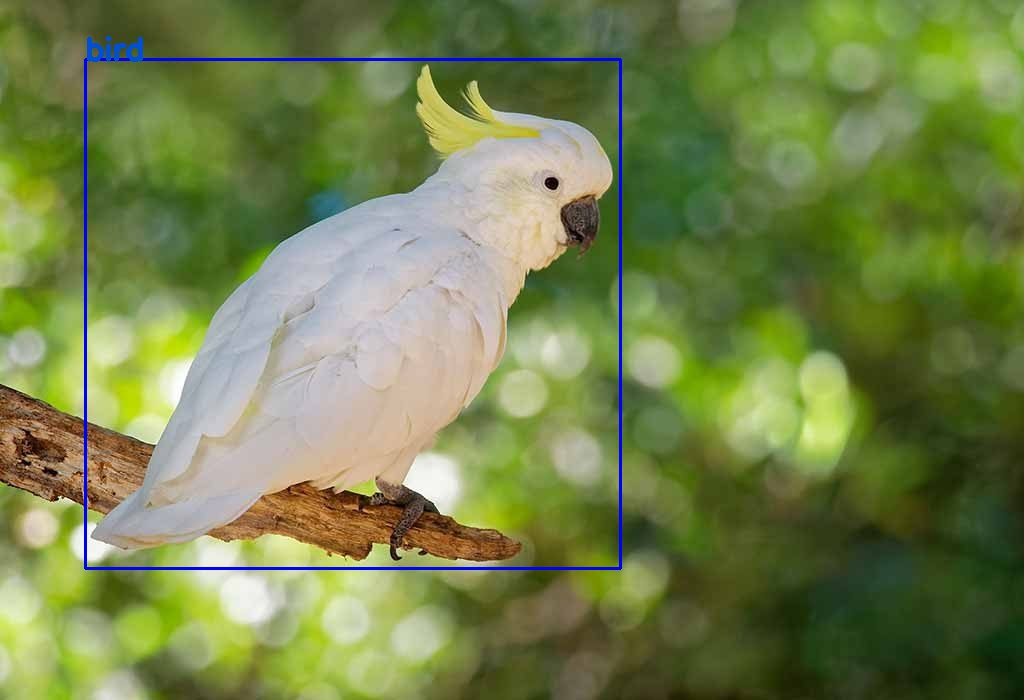bird: (84, 58, 619, 567)
